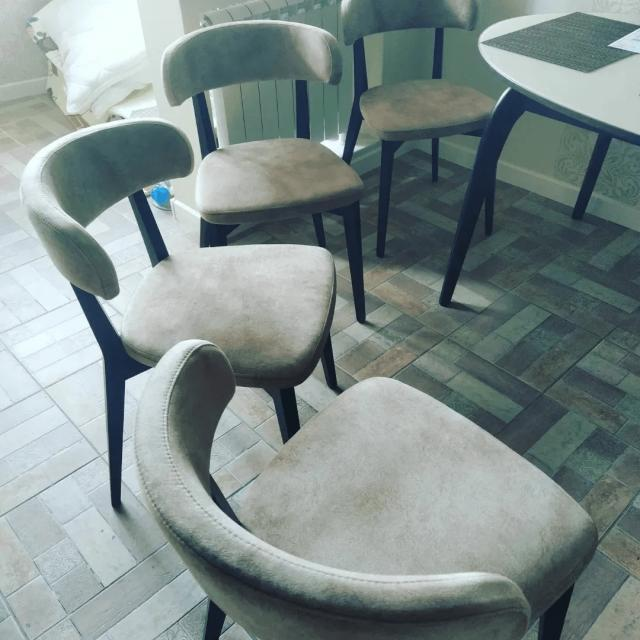chair: (129, 332, 604, 640), (19, 112, 343, 514), (31, 118, 342, 384), (158, 15, 376, 331), (334, 0, 508, 259), (166, 15, 364, 198), (336, 0, 498, 131)
